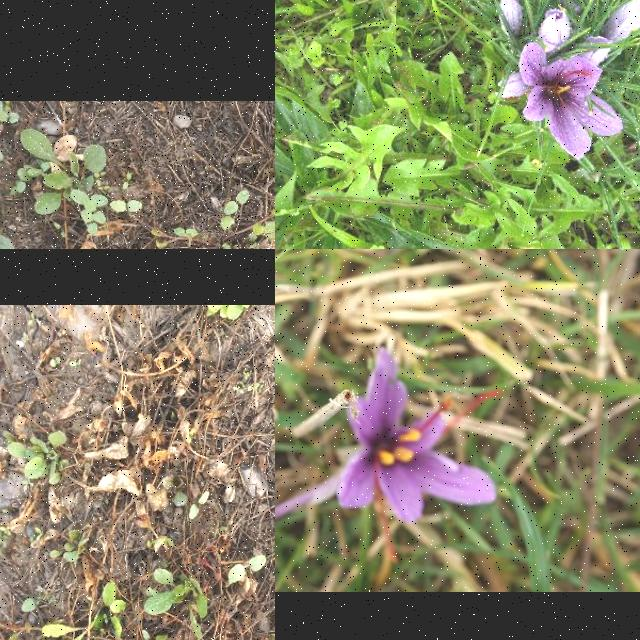flower: (338, 348, 504, 564), (518, 43, 624, 161), (599, 0, 640, 47), (536, 8, 572, 52), (578, 38, 614, 66), (498, 0, 525, 36), (554, 0, 587, 12)
